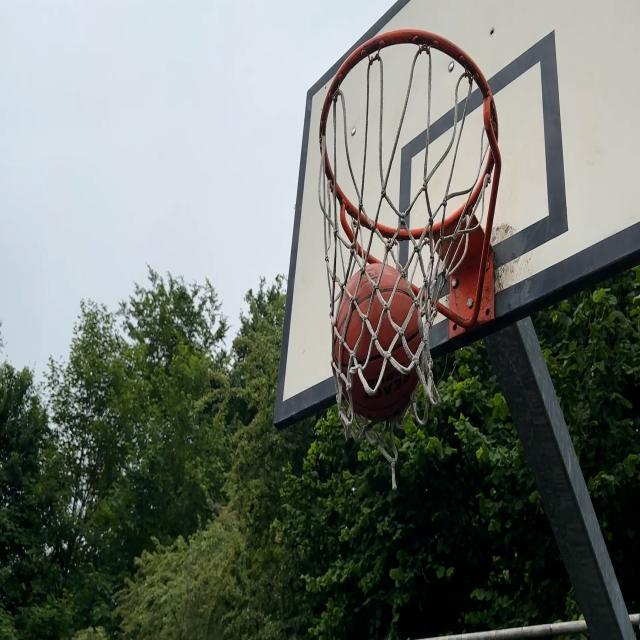Goal: (333, 267, 425, 422)
